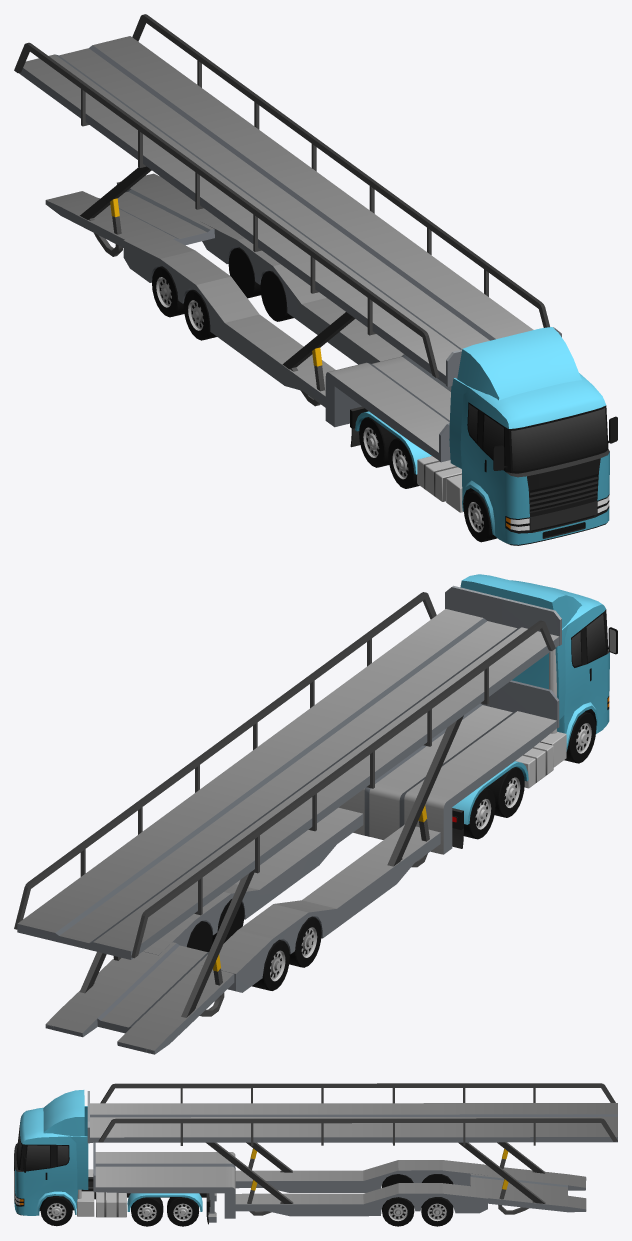
The model's file is Cars Truck.fbx.
3 views of the same model, one above another, from view 1: azimuth 30°, elevation 25°; view 2: azimuth 150°, elevation 25°; view 3: azimuth 270°, elevation 25° (orthographic). The views are drawn at different scales.
Visible parts, largest first — view 1: Trailer_Top, Car_Truck_Body, Trailer_Bottom, F_R (×2), B_R_2, B_R, F_L, B_R_1, B_L; view 2: Trailer_Top, Trailer_Bottom, Car_Truck_Body, F_R (×2), B_R_1, B_R, B_R_2; view 3: Trailer_Top, Trailer_Bottom, Car_Truck_Body, F_L (×2), B_L_1, B_L_2, B_L, F_R, B_R.
Part boxes in pixels (box(x1,y1,x2,y2)): Trailer_Top: box(14, 14, 561, 406); Car_Truck_Body: box(350, 327, 617, 545); Trailer_Bottom: box(45, 173, 451, 462); F_R (×2): box(183, 289, 497, 542); B_R_2: box(359, 417, 397, 467); B_R: box(152, 266, 184, 317); F_L: box(260, 271, 293, 321); B_R_1: box(388, 438, 419, 488); B_L: box(228, 247, 260, 298); Trailer_Top: box(14, 585, 561, 1017); Trailer_Bottom: box(45, 680, 559, 1054); Car_Truck_Body: box(452, 574, 617, 848); F_R (×2): box(289, 712, 596, 967); B_R_1: box(486, 767, 524, 817); B_R: box(252, 939, 289, 990); B_R_2: box(463, 788, 495, 839); Trailer_Top: box(87, 1083, 617, 1215); Trailer_Bottom: box(93, 1142, 586, 1222); Car_Truck_Body: box(14, 1090, 210, 1224); F_L (×2): box(40, 1196, 414, 1226); B_L_1: box(131, 1197, 163, 1226); B_L_2: box(167, 1197, 199, 1226); B_L: box(421, 1197, 453, 1226); F_R: box(382, 1174, 413, 1187); B_R: box(422, 1174, 453, 1184).
Size of the model in its own units: 266 by 359 by 1811.
